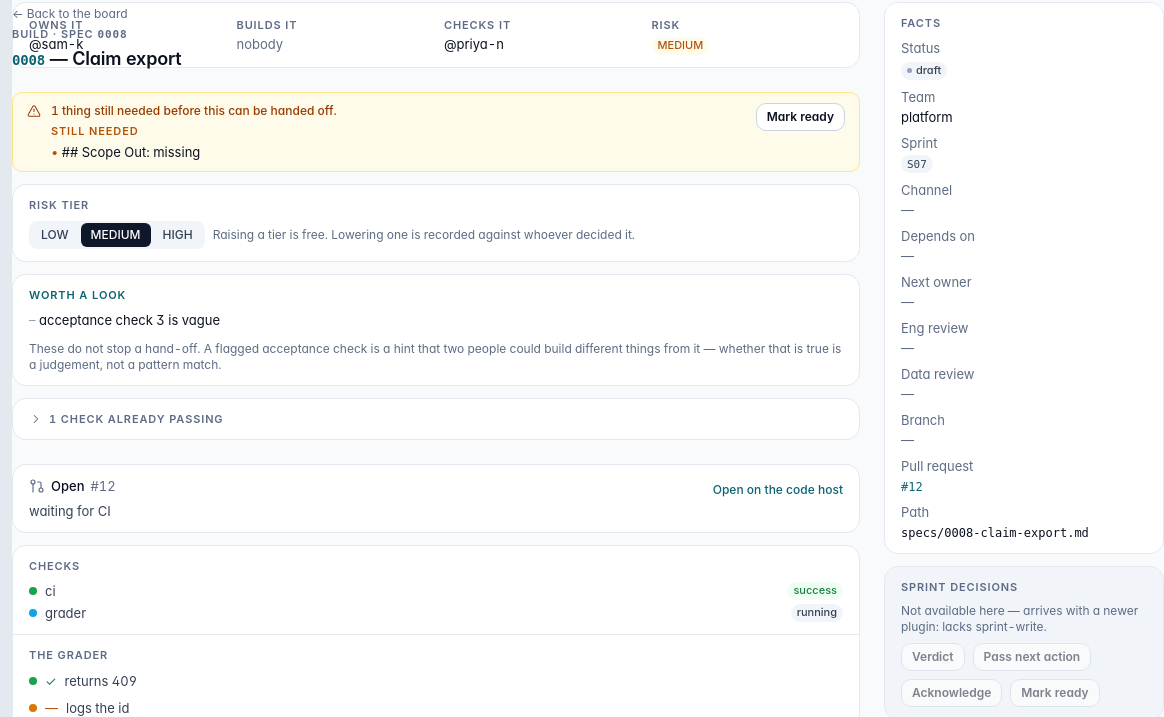
SpecReadinessPanel: the checker's verdict, grouped › lowering is refused in the plugin's words; the name field appears only because of that refusal
The image size is (1164, 717).
(page scrolled)
Expected: the text "Owns it" is shown, [29,18,83,32]
Expected: the heading "Risk tier" is shown, [29,198,89,212]
Click the button "LOW".
click(55, 234)  # box [31,222,79,246]
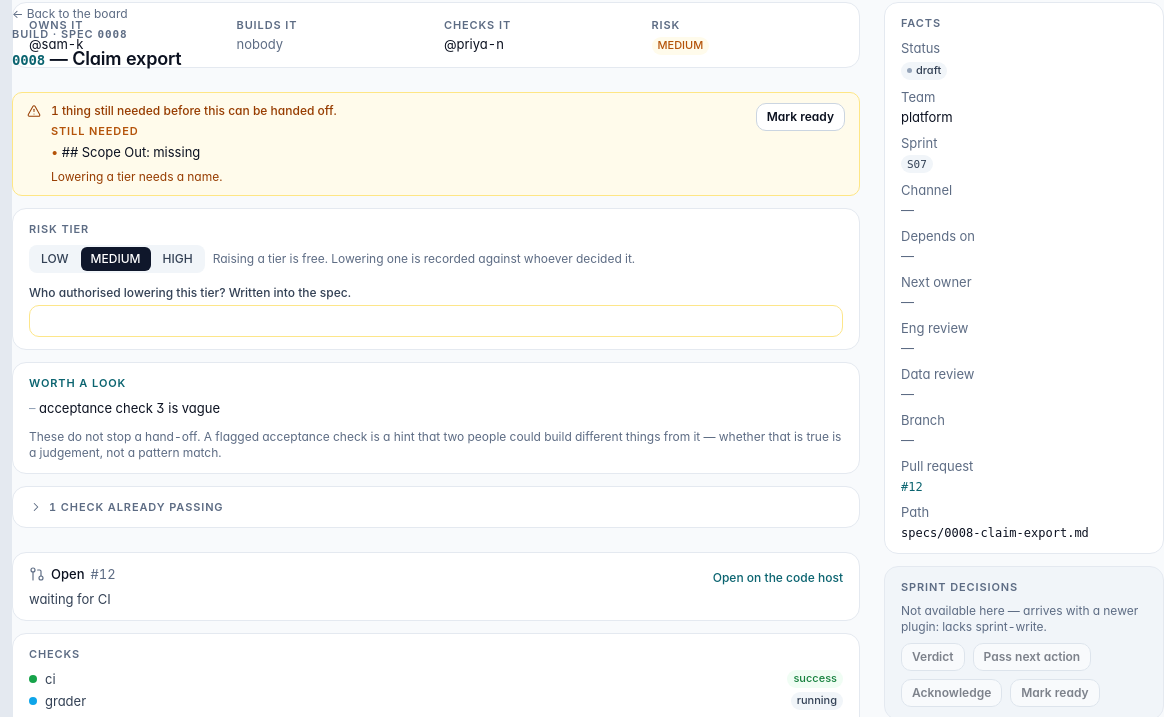
Expected: the text "Lowering a tier needs a name." is shown, [51,168,222,184]
Type "Matt K" into the field labelled "Who authorised lowering this tier? Written into the spec.".
click(436, 320); type("Matt K")  # box [29,304,843,336]
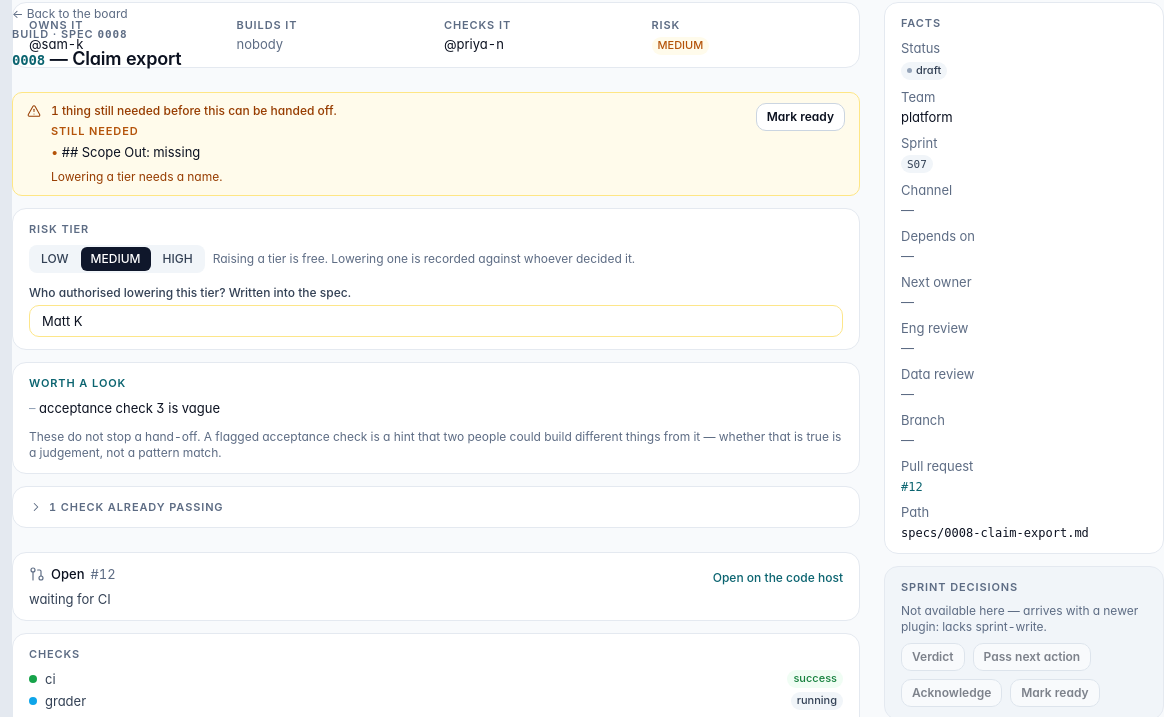
Click the button "LOW".
click(55, 258)  # box [31,246,79,270]
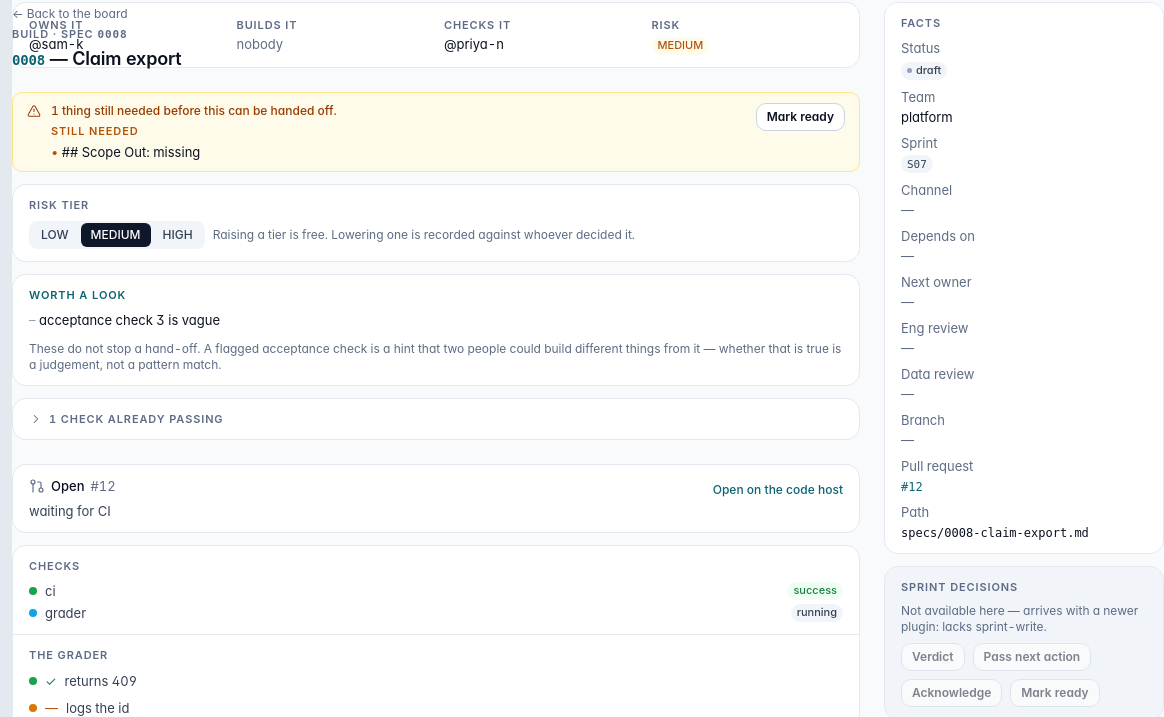
Expected: the label labelled "Who authorised lowering this tier" is gone
